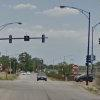Traffic light: (4, 28, 61, 49)
